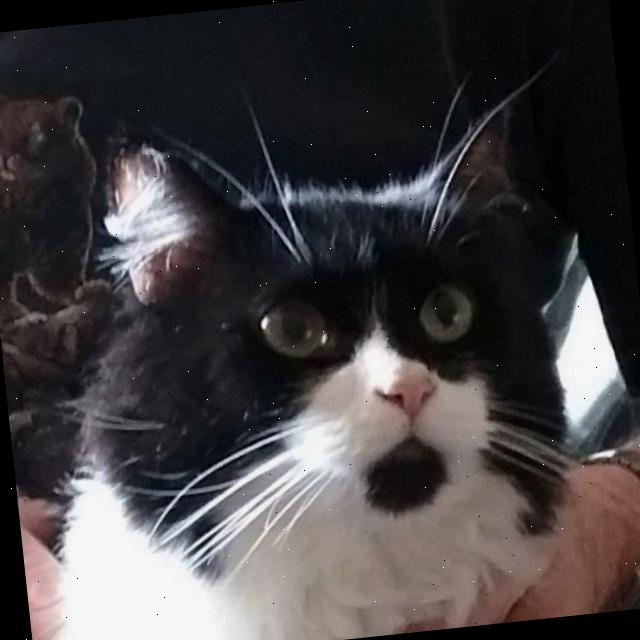maine_coon_cat: (75, 58, 614, 635)
